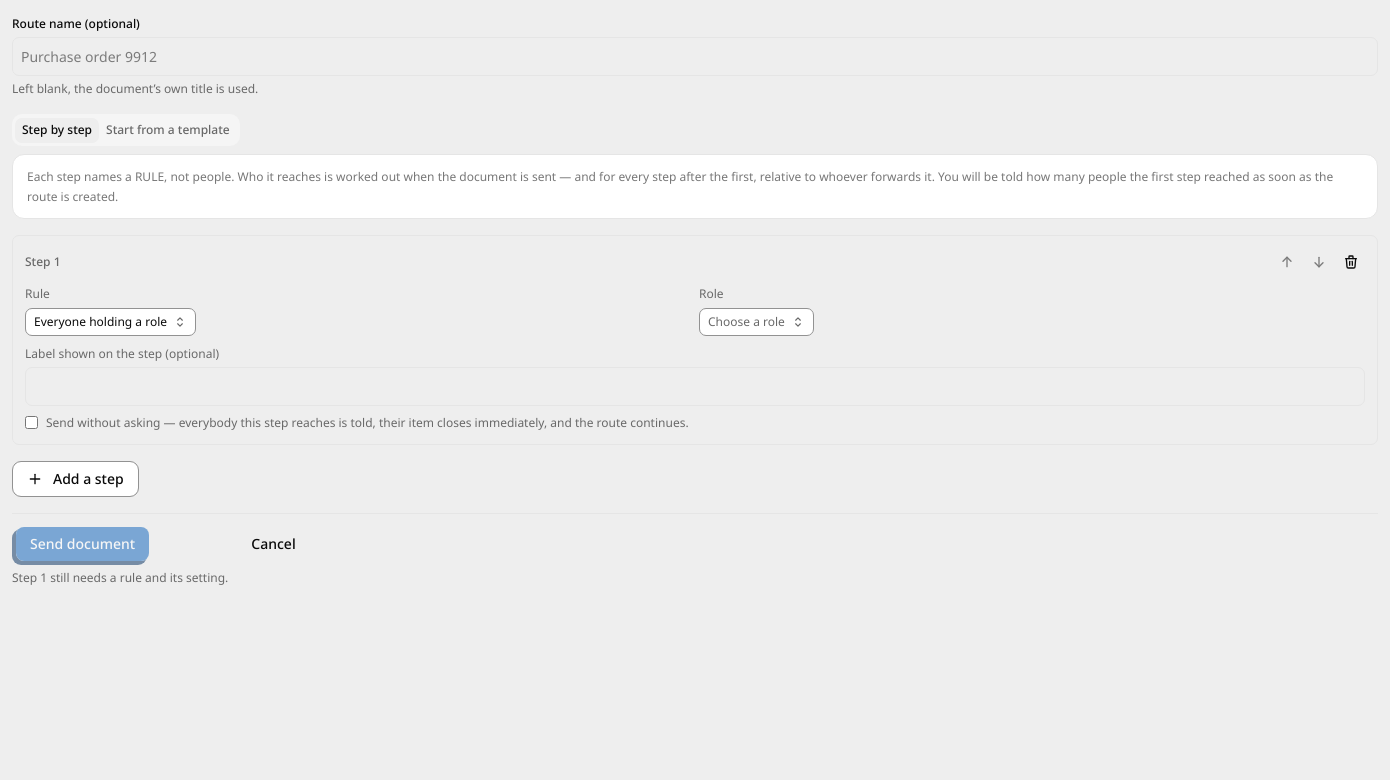
RouteComposer › surfaces a step-level validation refusal verbatim
Step 1. Click the dropdown labelled "Choose a role" → (756, 322), box top-left (699, 308), bottom-right (814, 336)
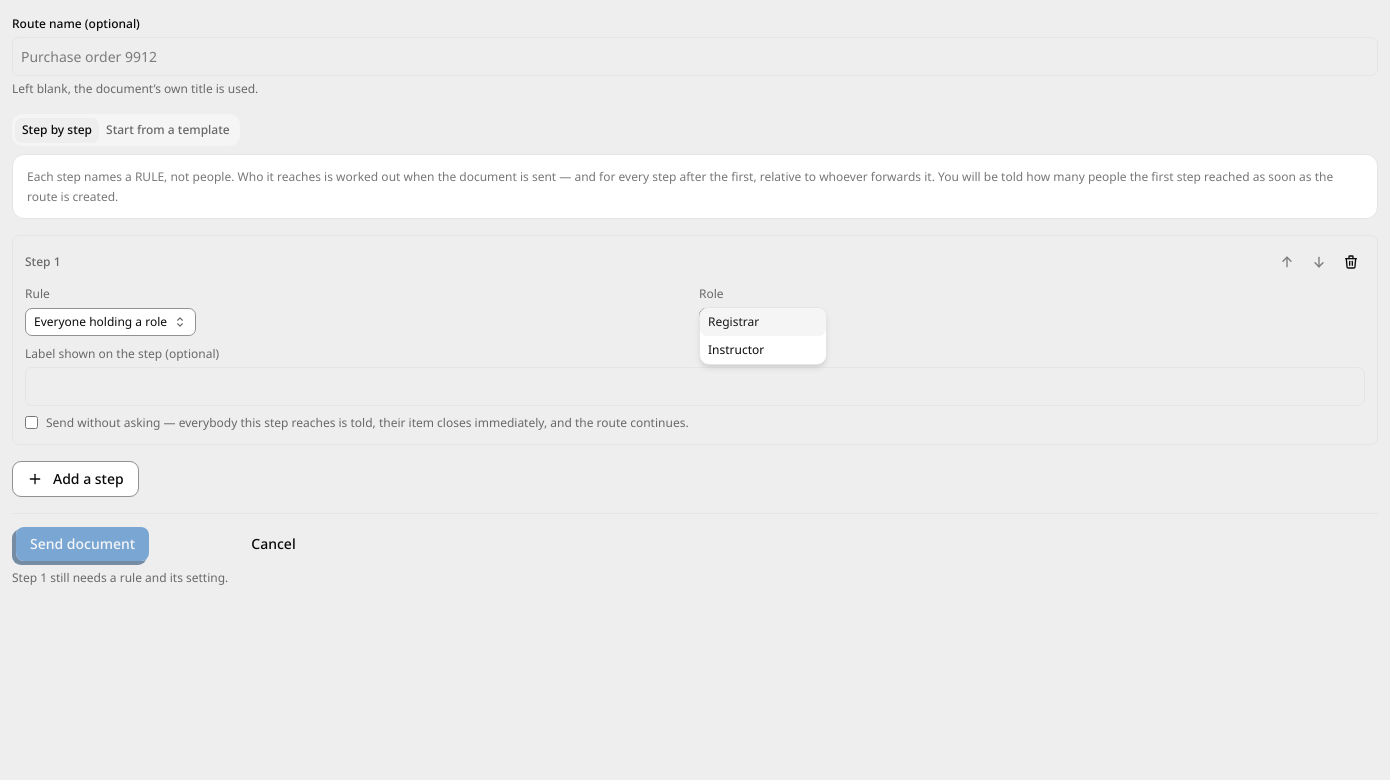
Step 2. Click the option "Registrar" → (763, 322), box top-left (700, 308), bottom-right (826, 336)
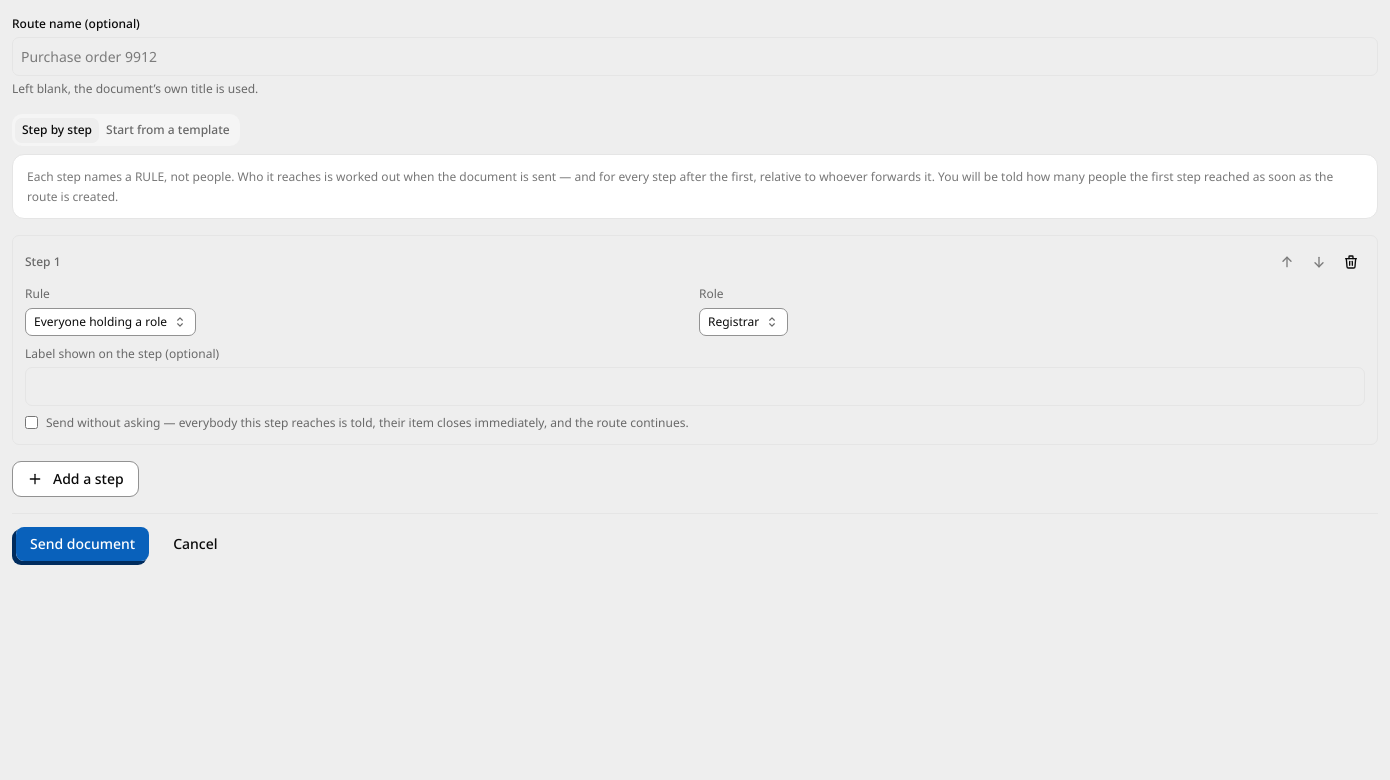
Step 3. Click the button "Send document" → (83, 544), box top-left (15, 526), bottom-right (150, 562)
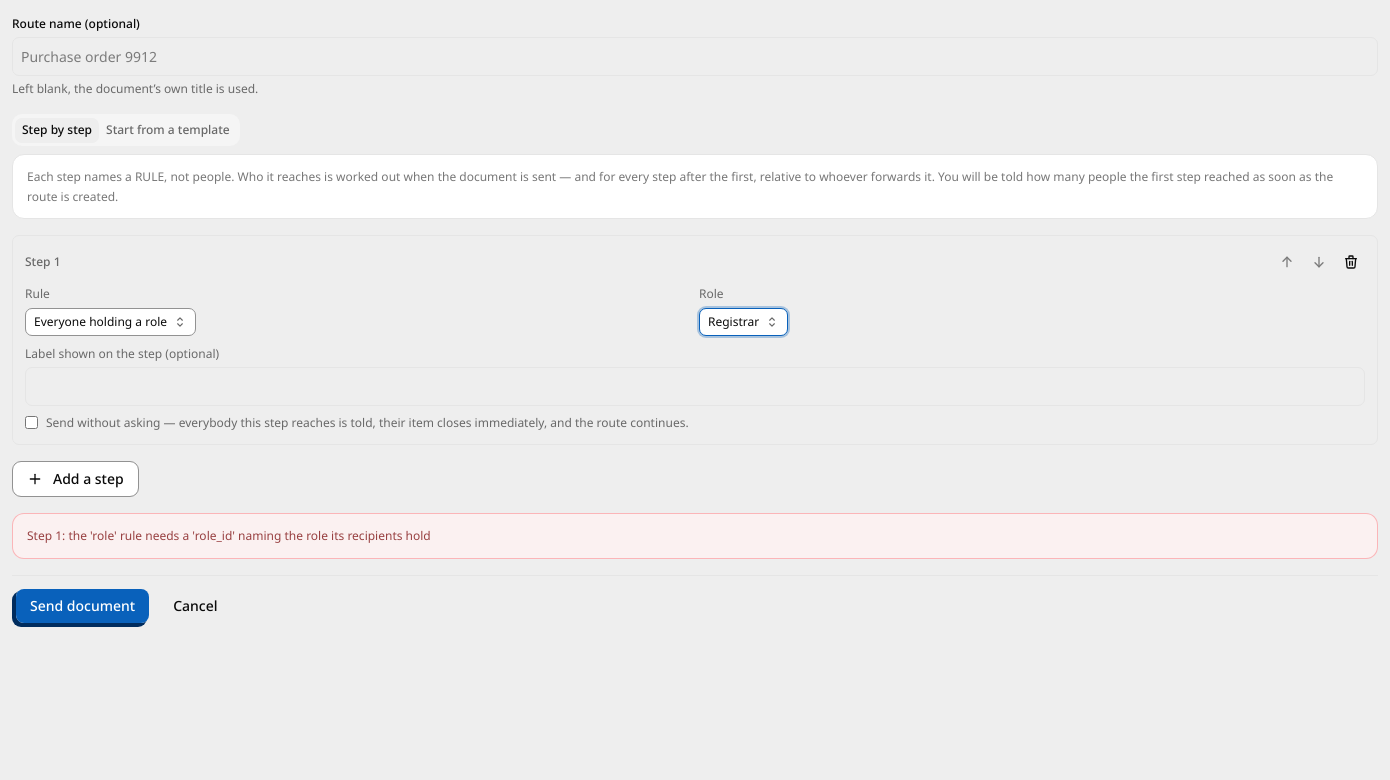
expect the text "needs a 'role_id' naming the role" is shown: met, box top-left (27, 527), bottom-right (431, 544)
